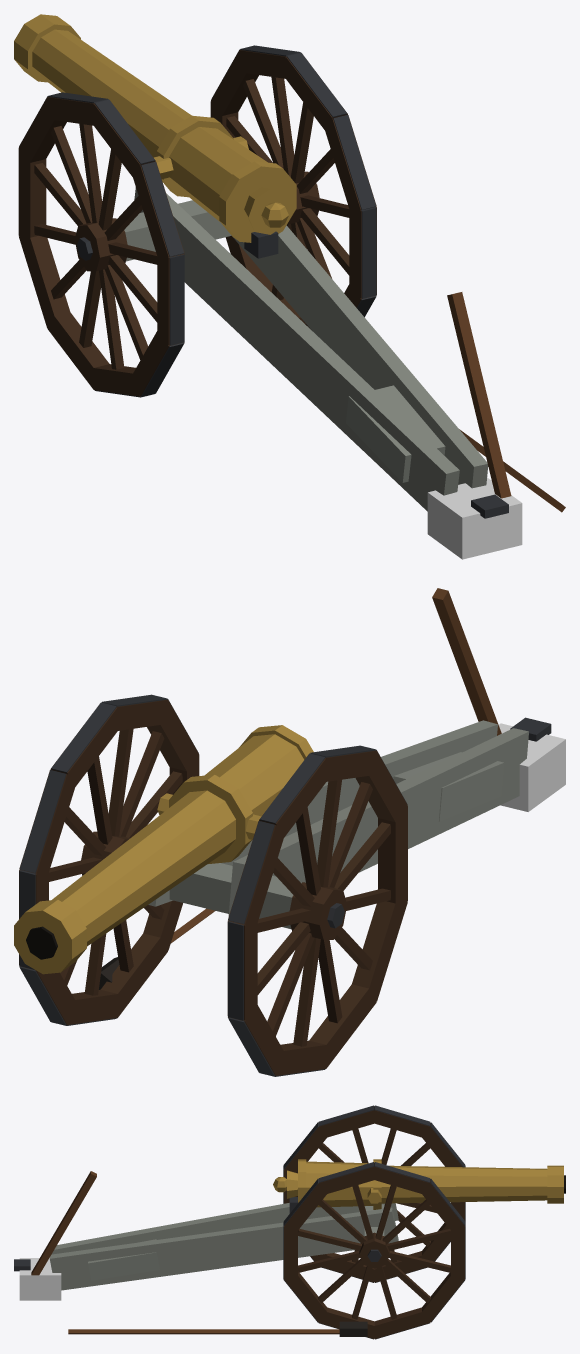
File: art_field_gun_c19.glb
3 views of the same model, one above another, from view 1: azimuth 30°, elevation 25°; view 2: azimuth 150°, elevation 25°; view 3: azimuth 270°, elevation 25° (orthographic). The views are drawn at different scales.
Visible parts, largest first — view 1: art_field_gun_c19; view 2: art_field_gun_c19; view 3: art_field_gun_c19.
Part boxes in pixels (<box>): art_field_gun_c19: <box>14,14,565,559</box>; art_field_gun_c19: <box>14,588,565,1076</box>; art_field_gun_c19: <box>14,1105,565,1339</box>.
Size of the model in its own units: 1.18 by 1.37 by 3.96.
